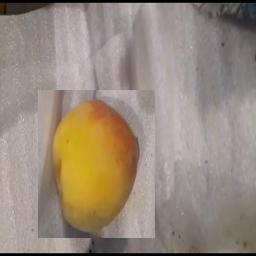Peach Semifresh: (38, 90, 155, 238)
